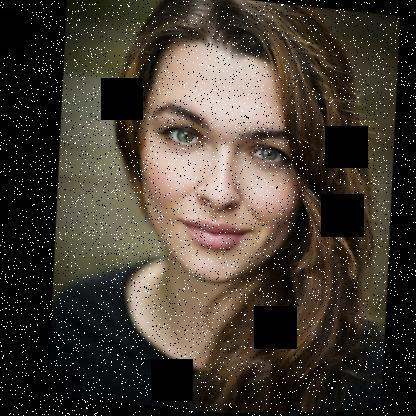Female: (115, 36, 318, 294)
